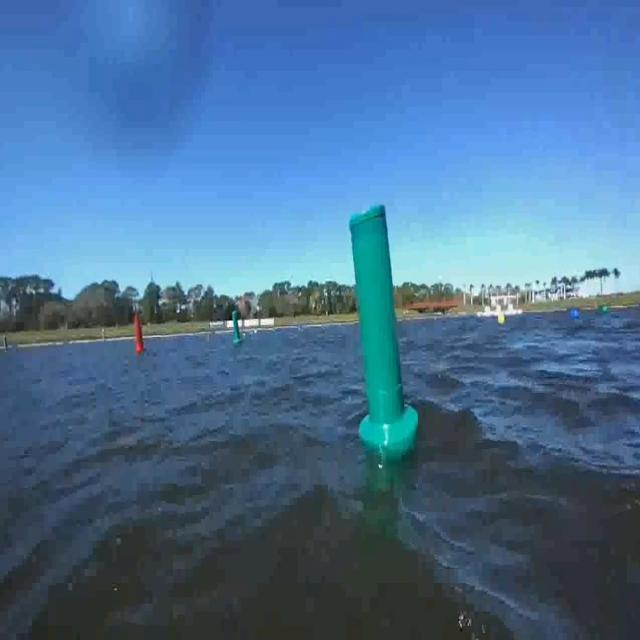blue-buoy: (570, 308, 580, 322)
green-buoy: (602, 306, 609, 316)
green-column-buoy: (347, 203, 417, 459), (232, 312, 245, 347)
red-column-buoy: (134, 314, 147, 355)
yellow-buoy: (497, 312, 506, 326)
